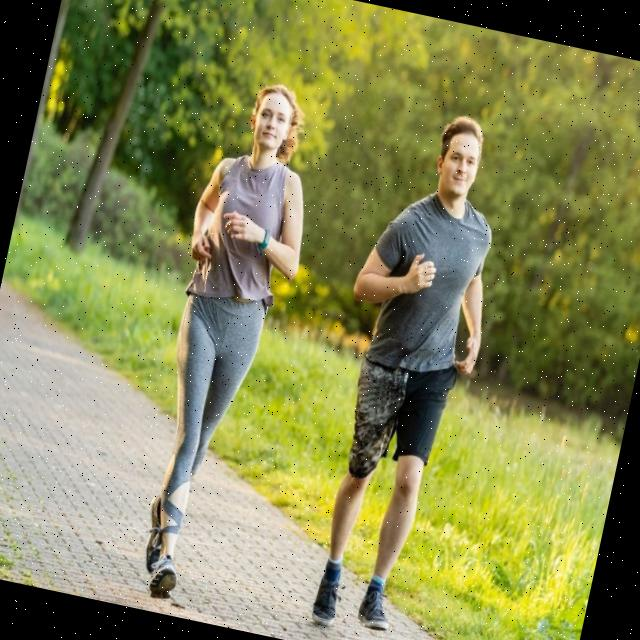Person: (284, 103, 526, 640), (116, 74, 334, 612)
